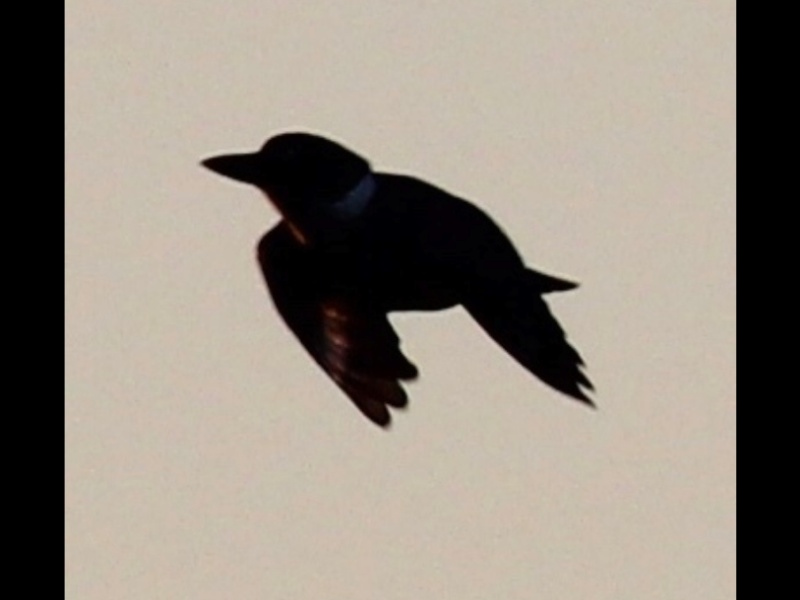kingfisher: (199, 128, 600, 441)
